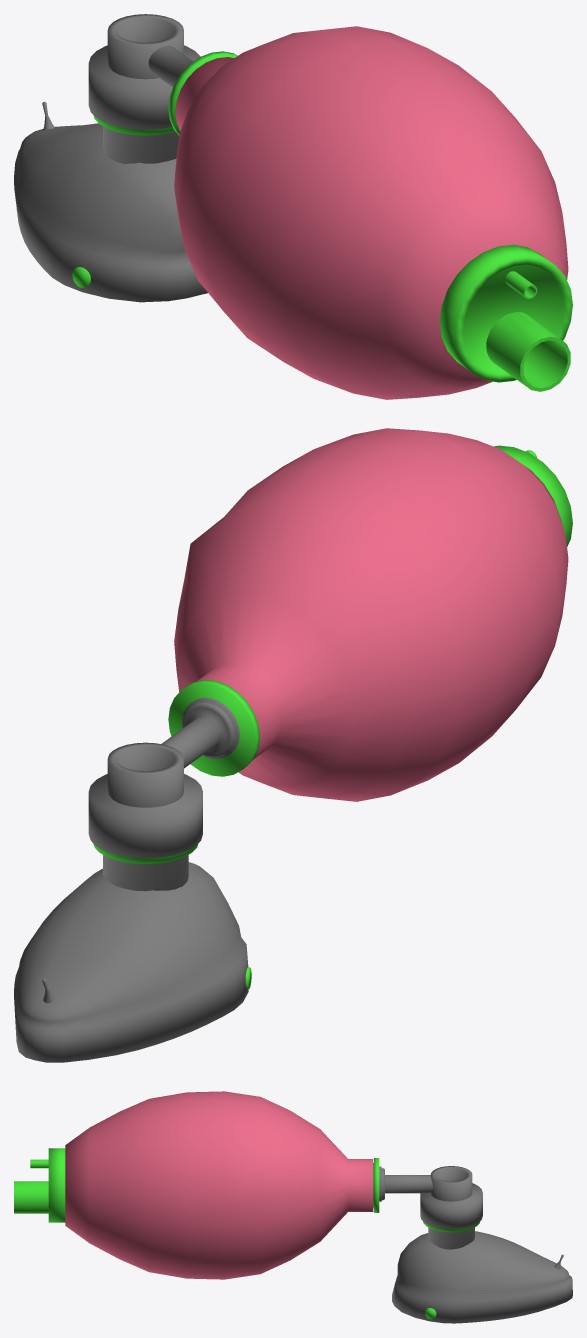
Rendered from FBX_AmbuBag.fbx.
3 views of the same model, one above another, from view 1: azimuth 30°, elevation 25°; view 2: azimuth 150°, elevation 25°; view 3: azimuth 270°, elevation 25° (orthographic). The views are drawn at different scales.
Visible parts, largest first — view 1: SM_AmbuBag_Body, SM_AmbuBag_Transparent, SM_AmbuBag_Plastic; view 2: SM_AmbuBag_Body, SM_AmbuBag_Transparent, SM_AmbuBag_Plastic; view 3: SM_AmbuBag_Body, SM_AmbuBag_Transparent, SM_AmbuBag_Plastic.
Part boxes in pixels (x1,y1,x2,y2): SM_AmbuBag_Body: (174, 26, 568, 399); SM_AmbuBag_Transparent: (14, 14, 207, 302); SM_AmbuBag_Plastic: (72, 51, 572, 391); SM_AmbuBag_Body: (174, 428, 568, 801); SM_AmbuBag_Transparent: (14, 697, 248, 1062); SM_AmbuBag_Plastic: (93, 445, 572, 988); SM_AmbuBag_Body: (65, 1091, 373, 1279); SM_AmbuBag_Transparent: (379, 1166, 572, 1323); SM_AmbuBag_Plastic: (14, 1148, 480, 1319).
Size of the model in its own units: 0.1171 by 0.1363 by 0.3464.
